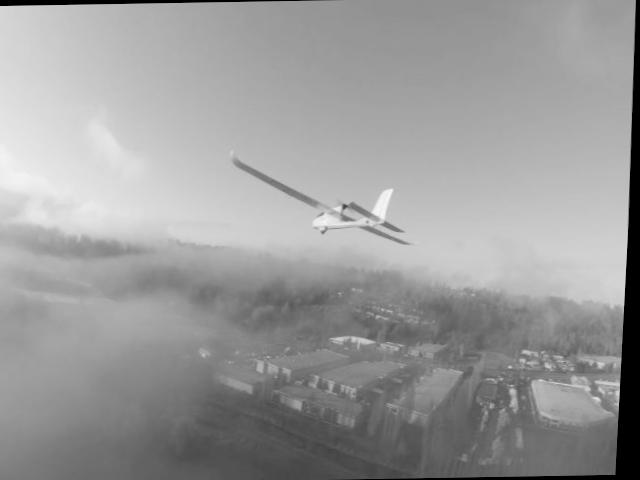hedef: (216, 133, 454, 292)
